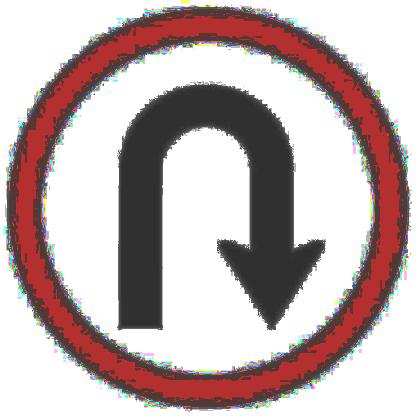U-turn: (5, 6, 416, 409)
